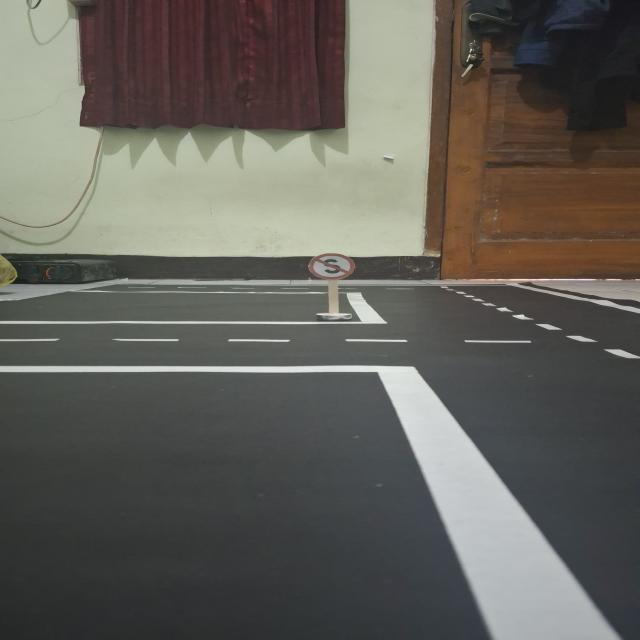Rambu Berhenti: (308, 253, 356, 280)
